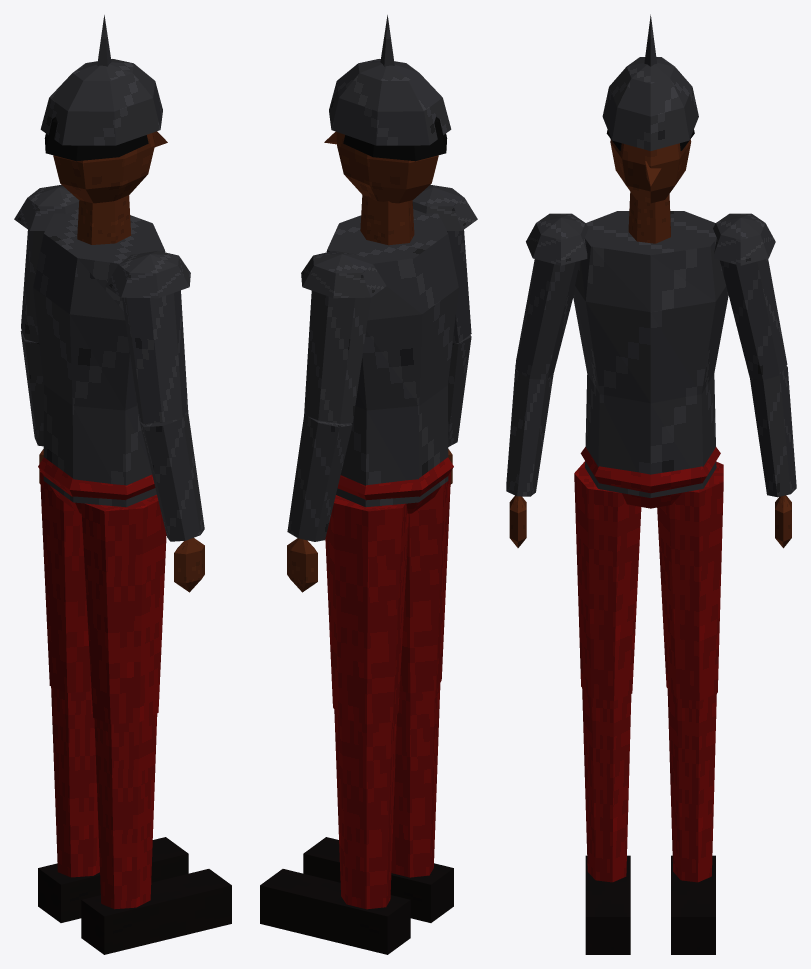
The model's file is lancero.glb.
3 views of the same model, side by side, from view 1: azimuth 30°, elevation 25°; view 2: azimuth 150°, elevation 25°; view 3: azimuth 270°, elevation 25° (orthographic).
Parts seen in each view (by area): view 1: torso, muslo_der, pierna_der, casco, muslo_izq, pierna_izq, pie_der, brazo_der, antebrazo_der, cabeza, pie_izq, hombrera_der (+7 smaller); view 2: torso, muslo_izq, pierna_izq, casco, muslo_der, pierna_der, pie_izq, brazo_izq, antebrazo_izq, cabeza, pie_der, hombrera_izq (+7 smaller); view 3: torso, muslo_der, muslo_izq, pierna_der, pierna_izq, casco, brazo_izq, brazo_der, antebrazo_izq, antebrazo_der, pie_der, pie_izq (+7 smaller).
Boxes of the visible parts, x1=… form: torso: x1=33, y1=209, x2=165, y2=507; muslo_der: x1=81, y1=494, x2=166, y2=724; pierna_der: x1=94, y1=713, x2=157, y2=909; casco: x1=40, y1=15, x2=162, y2=145; muslo_izq: x1=40, y1=471, x2=91, y2=692; pierna_izq: x1=51, y1=686, x2=99, y2=877; pie_der: x1=81, y1=869, x2=231, y2=954; brazo_der: x1=122, y1=290, x2=188, y2=423; antebrazo_der: x1=139, y1=413, x2=204, y2=541; cabeza: x1=53, y1=131, x2=167, y2=203; pie_izq: x1=38, y1=837, x2=188, y2=922; hombrera_der: x1=105, y1=251, x2=190, y2=298; torso: x1=326, y1=209, x2=458, y2=507; muslo_izq: x1=325, y1=495, x2=409, y2=724; pierna_izq: x1=334, y1=710, x2=396, y2=909; casco: x1=329, y1=15, x2=451, y2=145; muslo_der: x1=399, y1=471, x2=451, y2=693; pierna_der: x1=391, y1=683, x2=440, y2=877; pie_izq: x1=260, y1=869, x2=410, y2=954; brazo_izq: x1=304, y1=291, x2=370, y2=423; antebrazo_izq: x1=287, y1=414, x2=352, y2=541; cabeza: x1=324, y1=131, x2=438, y2=203; pie_der: x1=303, y1=837, x2=453, y2=922; hombrera_izq: x1=301, y1=251, x2=386, y2=298; torso: x1=573, y1=211, x2=728, y2=497; muslo_der: x1=574, y1=461, x2=641, y2=701; muslo_izq: x1=657, y1=461, x2=723, y2=700; pierna_der: x1=582, y1=688, x2=631, y2=882; pierna_izq: x1=667, y1=689, x2=716, y2=882; casco: x1=602, y1=14, x2=698, y2=150; brazo_izq: x1=720, y1=258, x2=787, y2=380; brazo_der: x1=516, y1=259, x2=579, y2=379; antebrazo_izq: x1=750, y1=366, x2=796, y2=497; antebrazo_der: x1=506, y1=363, x2=553, y2=496; pie_der: x1=585, y1=855, x2=630, y2=954; pie_izq: x1=671, y1=855, x2=715, y2=954.
Size of the model in its own units: 0.3 by 1.7 by 0.5.
1 material, 1 textured.
